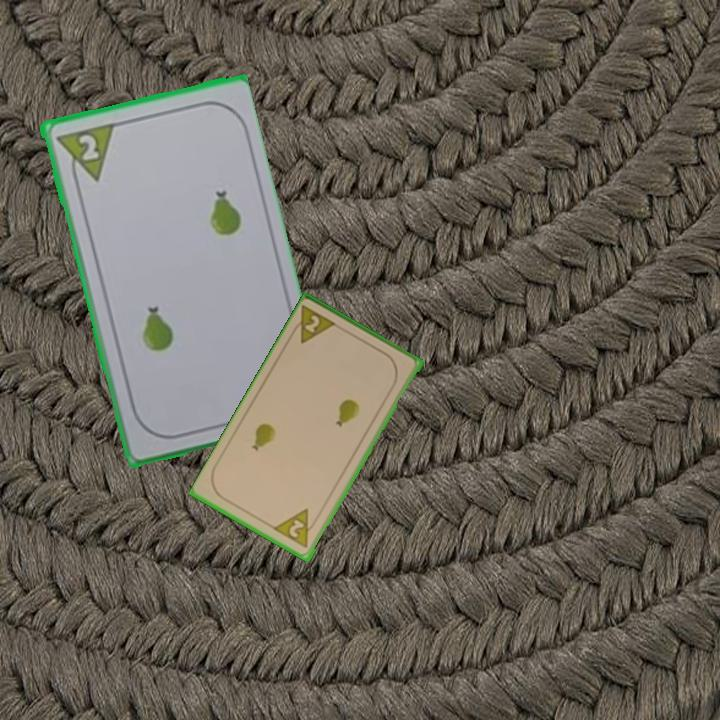2p: (51, 119, 116, 188), (286, 303, 341, 347), (271, 505, 321, 551)
